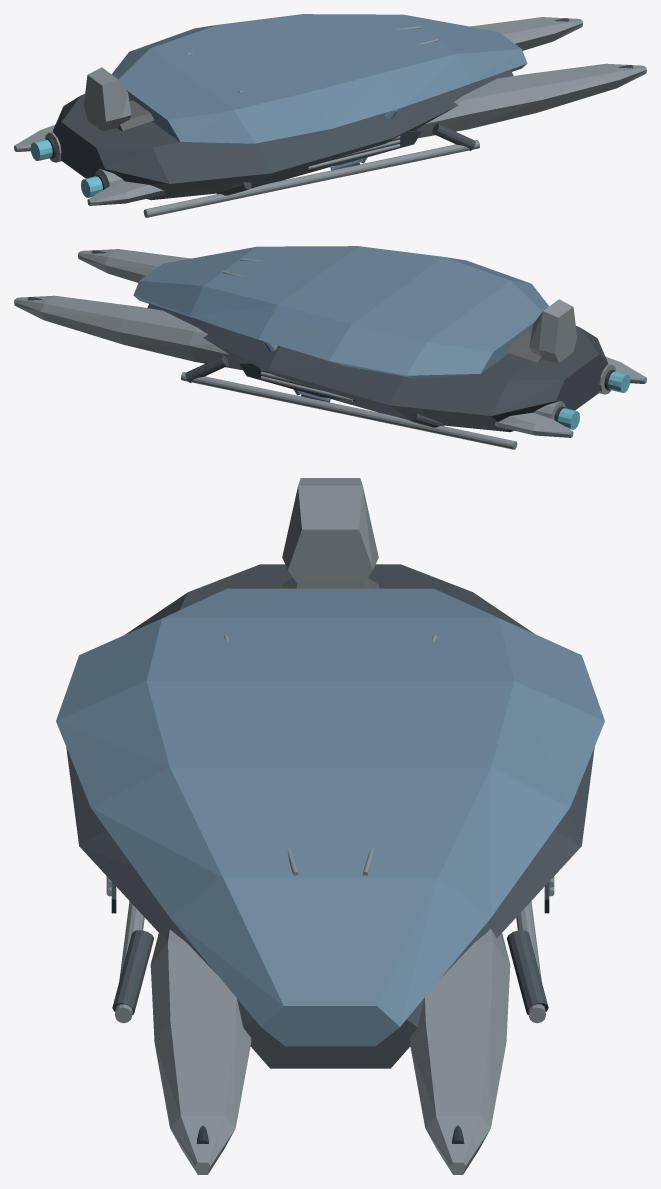
The model's file is solos_blue_flight.glb.
3 renders of one model, top to bottom at view 1: azimuth 30°, elevation 25°; view 2: azimuth 150°, elevation 25°; view 3: azimuth 270°, elevation 25°, orthographic. The views are drawn at different scales.
Visible parts, largest first — view 1: upper_fairing_1, chassis_0, forward_prongs_2, lower_ski_4, seat_back_11, aft_fins_17, ski_support_5, flight_effect_8, side_vent_14, vent_louvers_15, seat_cushion_10, aft_engine_6; view 2: upper_fairing_1, chassis_0, forward_prongs_2, lower_ski_4, seat_back_11, aft_fins_17, ski_support_5, flight_effect_8, side_vent_14, seat_cushion_10, vent_louvers_15, aft_engine_6; view 3: upper_fairing_1, forward_prongs_2, chassis_0, seat_back_11, ski_support_5, lower_ski_4.
Boxes of the visible parts, x1,y1,x2,y2 form: upper_fairing_1: (111,14,527,146); chassis_0: (53,70,513,200); forward_prongs_2: (416,17,646,138); lower_ski_4: (143,140,479,217); seat_back_11: (83,67,131,130); aft_fins_17: (14,125,165,205); ski_support_5: (216,123,475,195); flight_effect_8: (30,139,102,197); side_vent_14: (301,131,421,169); vent_louvers_15: (308,136,400,169); seat_cushion_10: (117,100,154,130); aft_engine_6: (45,131,124,187); upper_fairing_1: (133,246,549,378); chassis_0: (147,303,607,432); forward_prongs_2: (14,249,242,370); lower_ski_4: (181,372,517,449); seat_back_11: (529,299,577,362); aft_fins_17: (495,357,646,437); ski_support_5: (185,355,444,427); flight_effect_8: (558,371,630,429); side_vent_14: (239,363,357,401); seat_cushion_10: (506,332,543,362); vent_louvers_15: (260,368,352,401); aft_engine_6: (533,363,615,419); upper_fairing_1: (56,588,604,1046); forward_prongs_2: (150,928,510,1174); chassis_0: (66,564,594,1068); seat_back_11: (282,478,378,582); ski_support_5: (112,930,548,1014); lower_ski_4: (115,901,545,1023).
Bounding box in the file's own units: 6.7 × 1.31 × 2.84.
